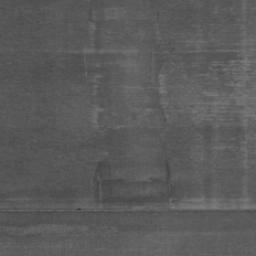Rolled pit: (89, 0, 169, 202)
